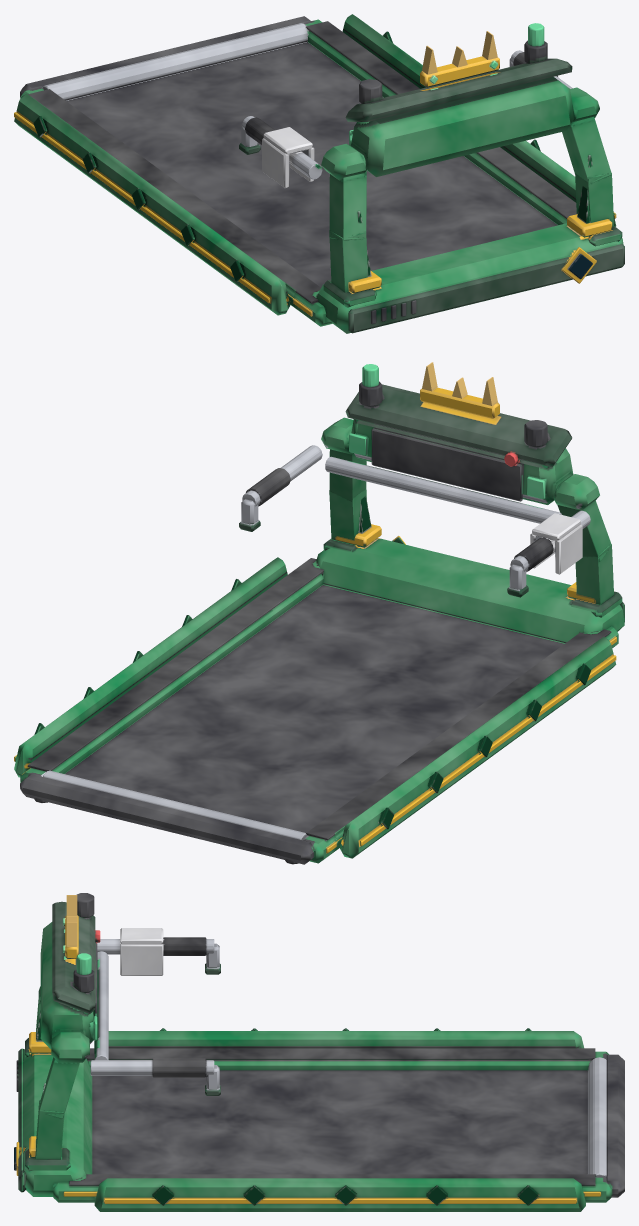
File: Treadmill_Jade_Rig.fbx
The picture shows the model from 3 angles, top to bottom: view 1: azimuth 30°, elevation 25°; view 2: azimuth 150°, elevation 25°; view 3: azimuth 270°, elevation 25°; orthographic projection. The views are drawn at different scales.
Parts seen in each view (by area): view 1: Frame, Console, Decor; view 2: Frame, Console, Decor; view 3: Frame, Decor, Console.
Part boxes in pixels (x1,y1,x2,y2): Frame: [20, 16, 624, 333]; Console: [239, 23, 622, 307]; Decor: [14, 14, 616, 315]; Frame: [20, 536, 624, 864]; Console: [239, 364, 622, 617]; Decor: [14, 362, 616, 858]; Frame: [14, 1048, 624, 1202]; Decor: [29, 895, 585, 1211]; Console: [25, 893, 220, 1171].
Bounding box in the file's own units: 8.96 × 6 × 14.61.
Materials: 1 (1 with a texture image).
